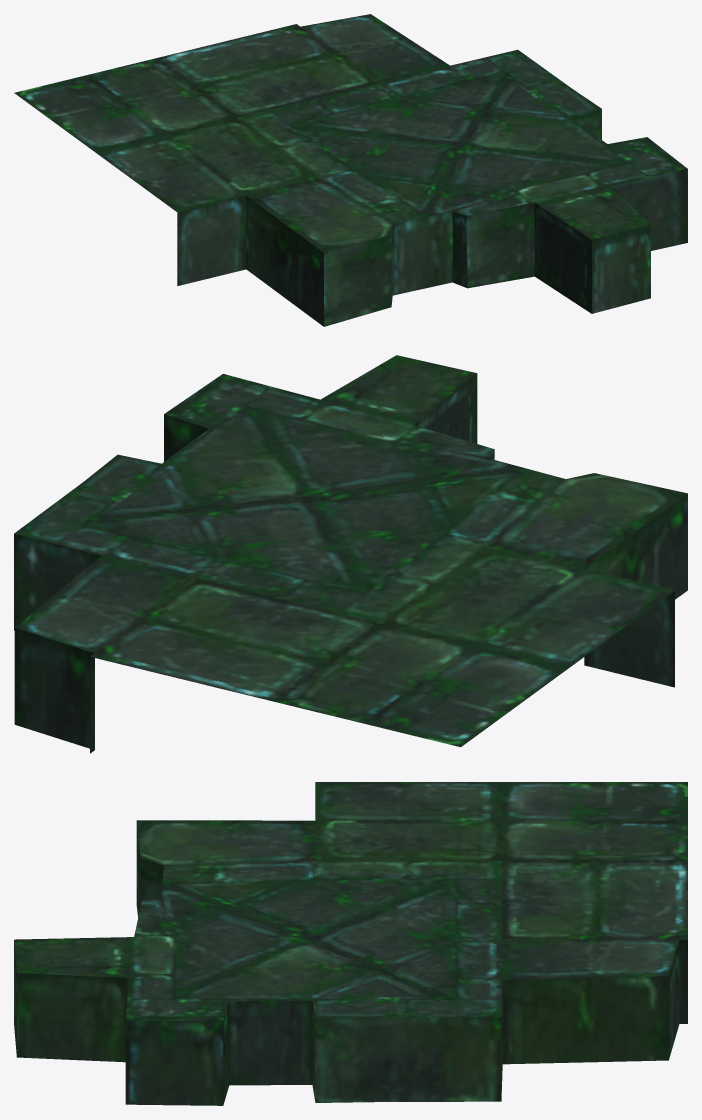
Rendered from stemple_floor_concave_noshadow_03.fbx.
3 views of the same model, one above another, from view 1: azimuth 30°, elevation 25°; view 2: azimuth 150°, elevation 25°; view 3: azimuth 270°, elevation 25° (orthographic). The views are drawn at different scales.
Parts seen in each view (by area): view 1: obj0.433; view 2: obj0.433; view 3: obj0.433.
Part boxes in pixels (<box>): obj0.433: <box>14,14,687,326</box>; obj0.433: <box>14,355,687,753</box>; obj0.433: <box>14,782,687,1105</box>.
Bounding box in the file's own units: 3.04 × 0.5 × 3.62.
